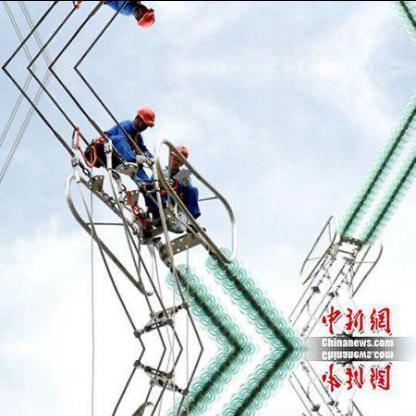Helmet: (130, 102, 156, 130), (130, 2, 156, 30), (167, 138, 187, 170)
